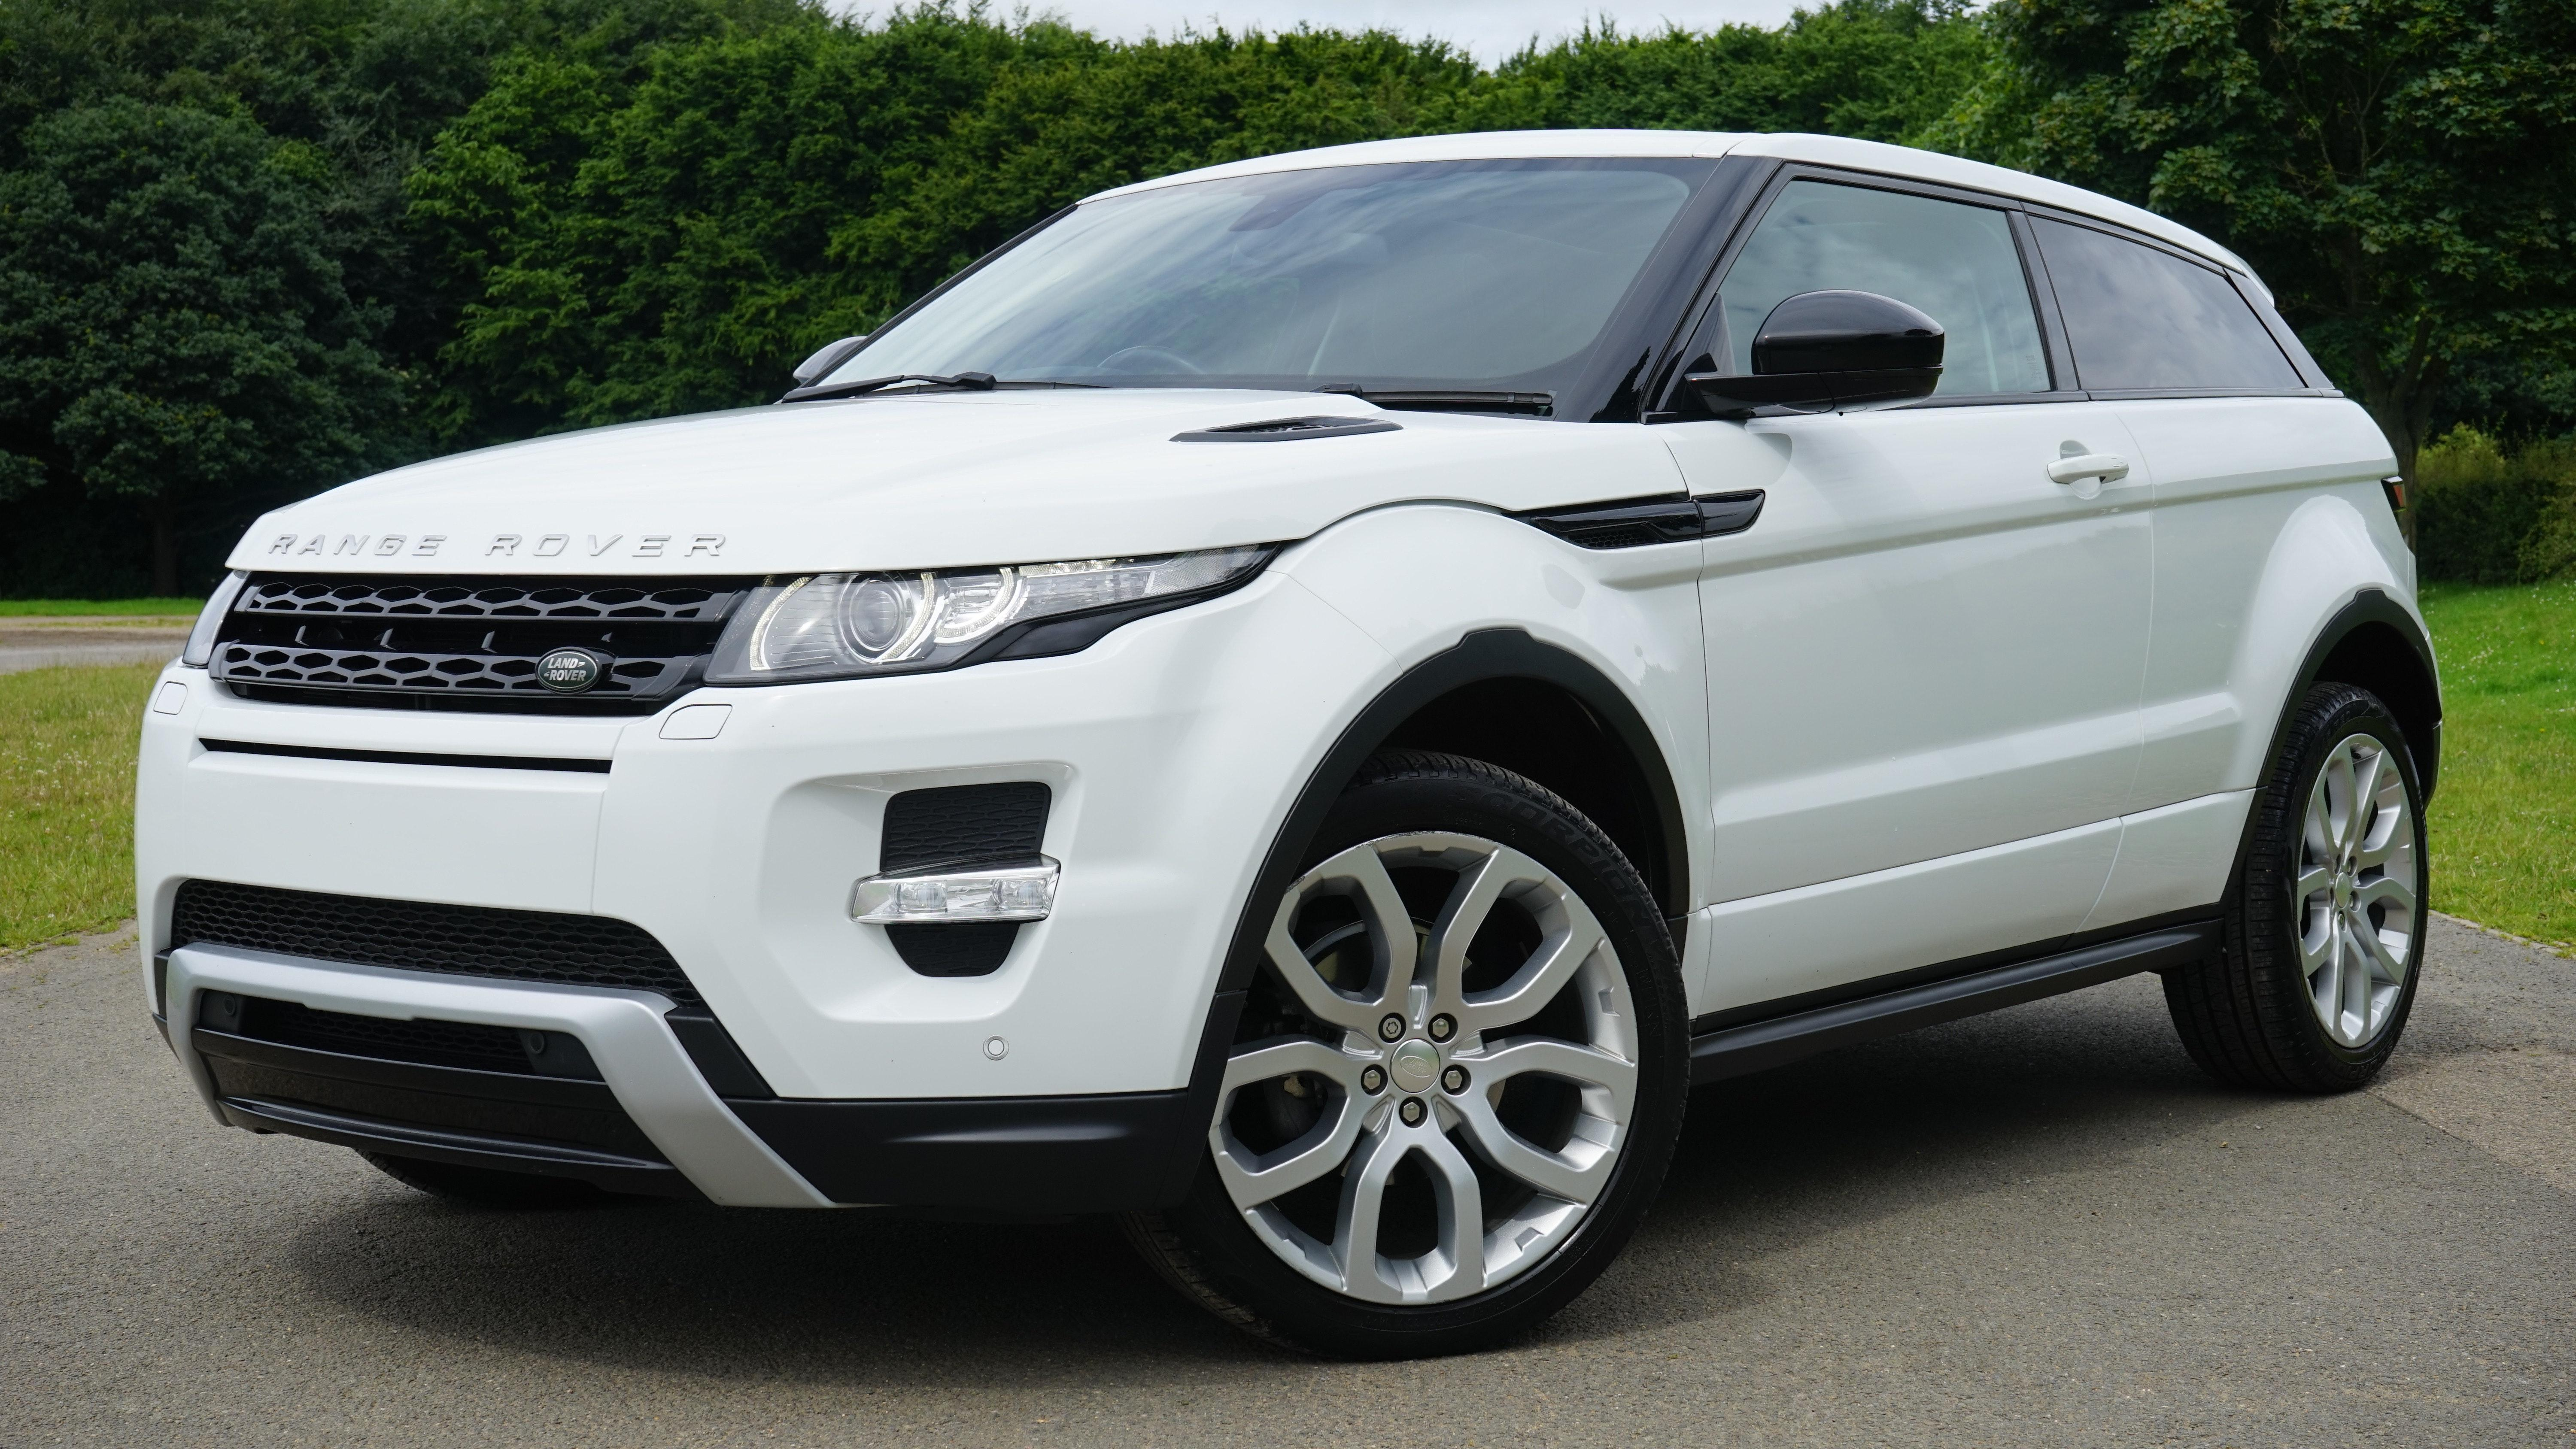range rover: (243, 508, 766, 579)
